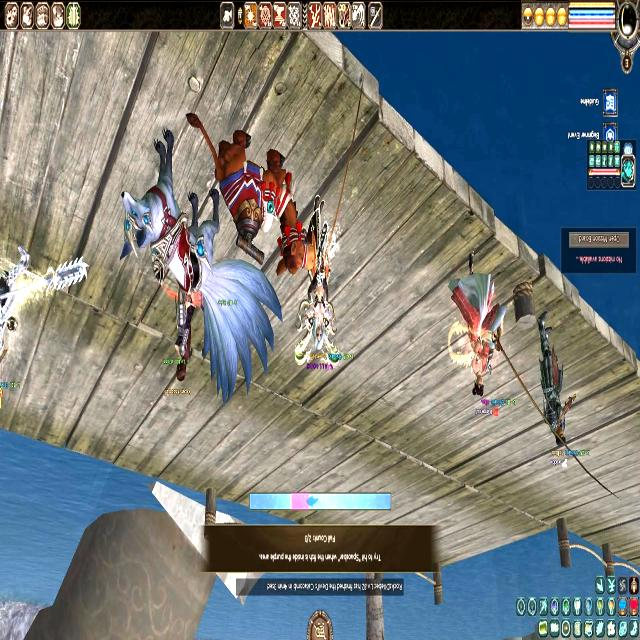fishes: (306, 495, 318, 509)
